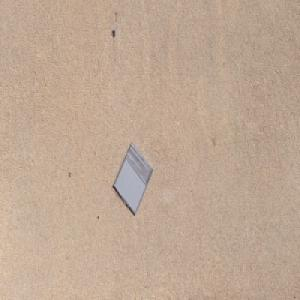PlasticPart: (112, 141, 154, 217)
